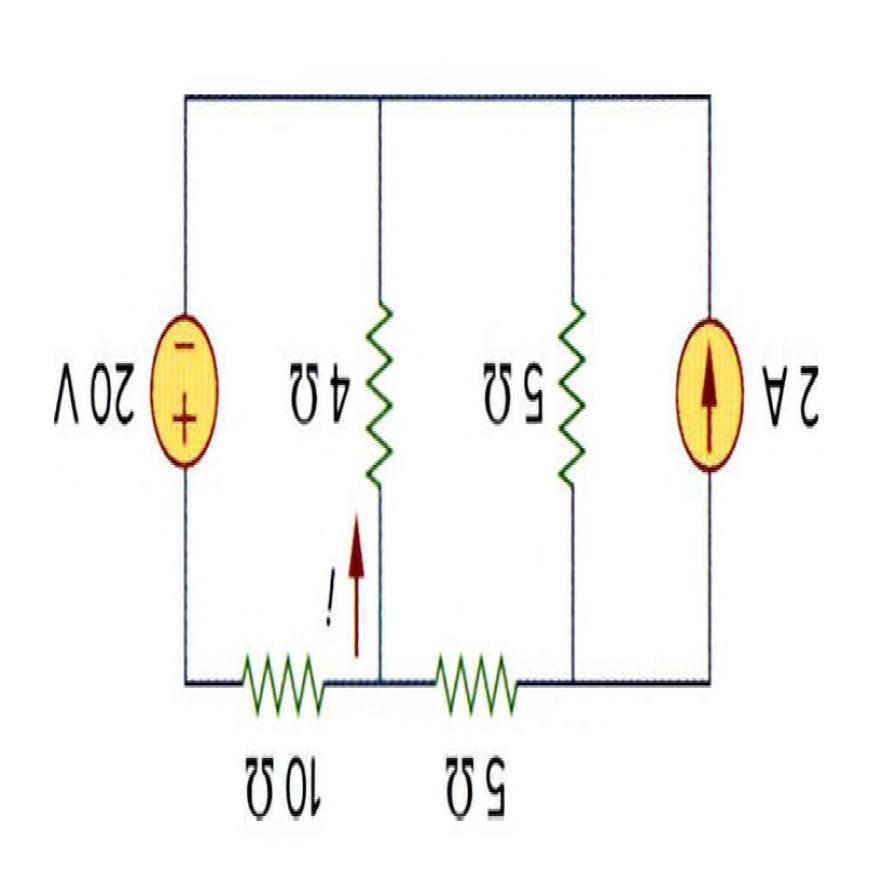V3: (144, 304, 224, 485)
